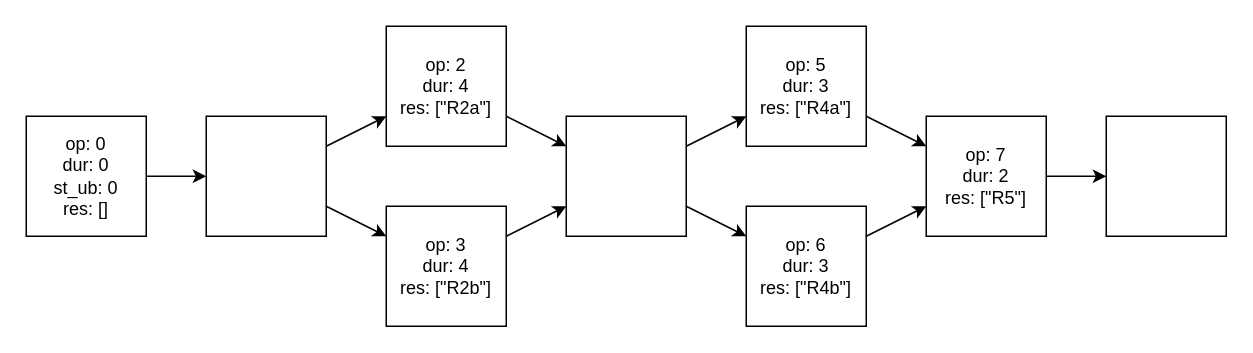
The diagram is 1253 pixels wide and 353 high, and some of its shapes have lost their labels. Each missing label, with the centre of its shape:
op: 1 dur: 2 st_lb: 5 res: ["R1"]: (265,175)
op: 4 dur: 5 st_lb:15 st_ub: 30 res: ["R3a"]: (625,175)
op: 8 dur: 0 st_ub: 50 res: []: (1165,175)
